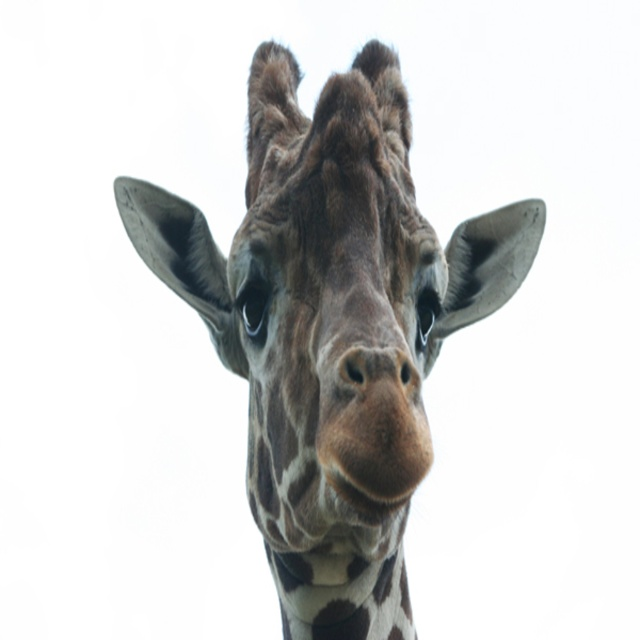Giraffe: (117, 6, 535, 640)
